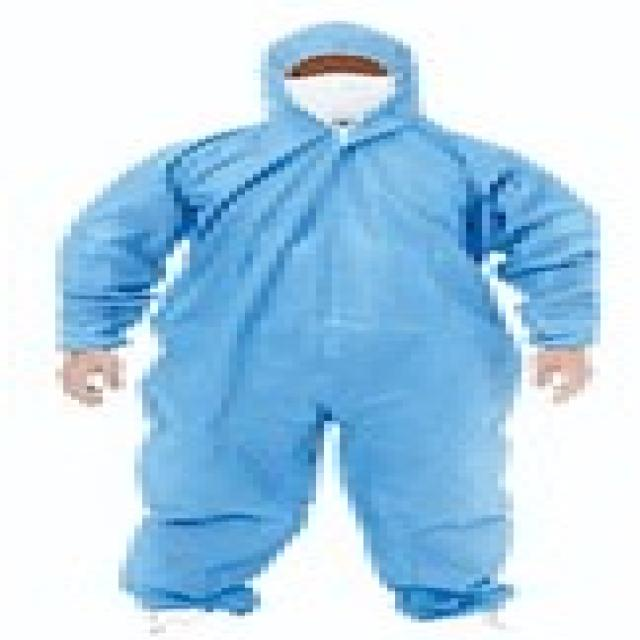Coverall: (40, 11, 592, 636)
Mask: (269, 63, 395, 118)
